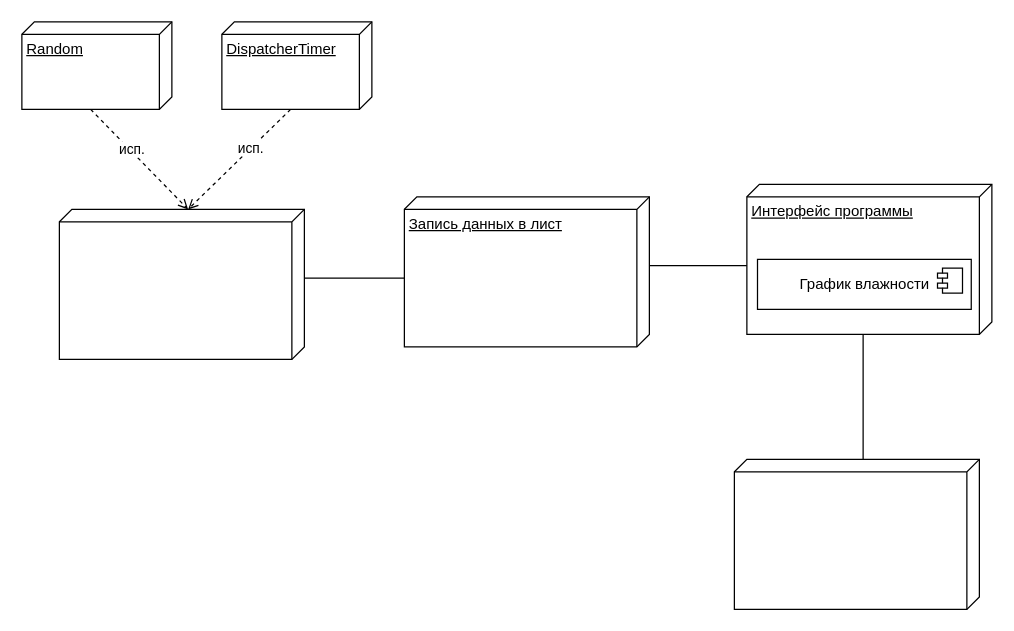
This 1014x631 diagram has some shape labels left out. The shapes that lost their labels are listed below. From the top down, each one's centre as x and y in pixels, then its label:
At point (181, 283): "Генерация влажности".
At point (856, 533): "Отрисовка графика влажности".
